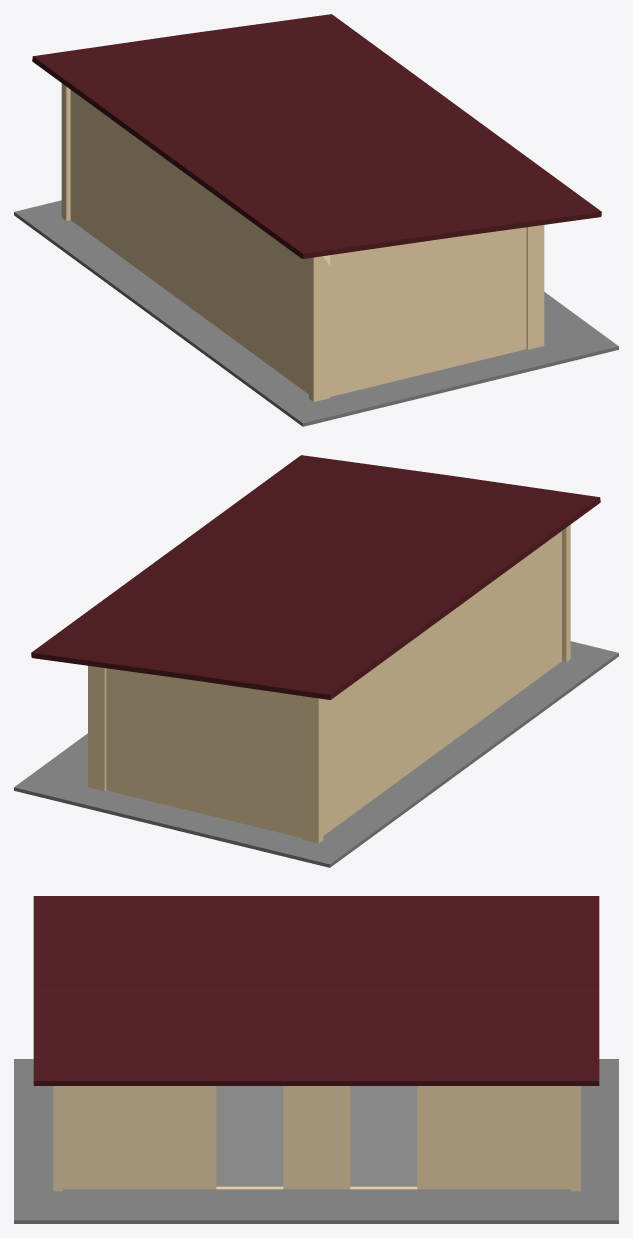
Rendered from bañomayor.gltf.
The picture shows the model from 3 angles, top to bottom: view 1: azimuth 30°, elevation 25°; view 2: azimuth 150°, elevation 25°; view 3: azimuth 270°, elevation 25°; orthographic projection. The views are drawn at different scales.
Visible parts, largest first — view 1: Plane; view 2: Plane; view 3: Plane.
Boxes of the visible parts, left/top/right/bottom form: Plane: left=14, top=14, right=618, bottom=426; Plane: left=14, top=455, right=618, bottom=867; Plane: left=14, top=896, right=618, bottom=1223.
Bounding box in the file's own units: 7.54 × 3.73 × 11.94.
